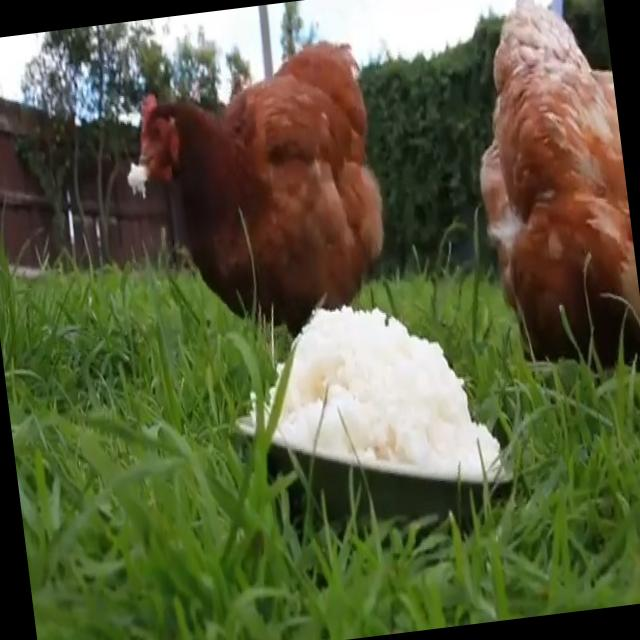feeding: (116, 34, 400, 340)
